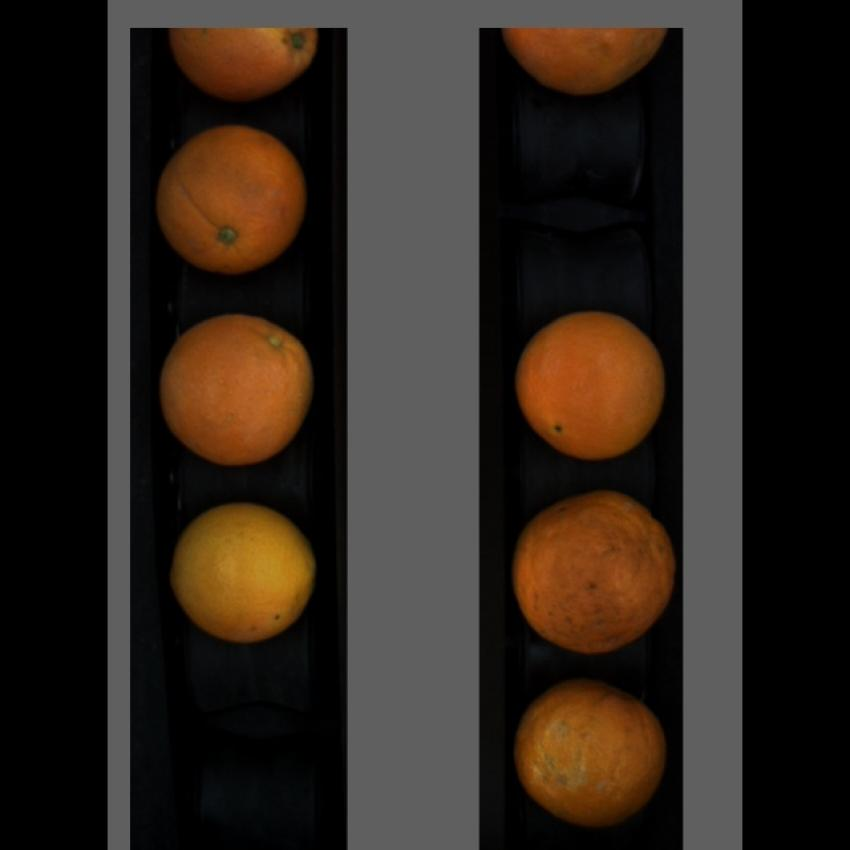Buen estado: (163, 497, 326, 650)
Mal estado: (507, 486, 681, 656), (150, 309, 327, 470), (512, 297, 671, 468), (505, 680, 677, 832), (150, 123, 312, 274), (499, 31, 669, 96), (164, 29, 319, 100)
